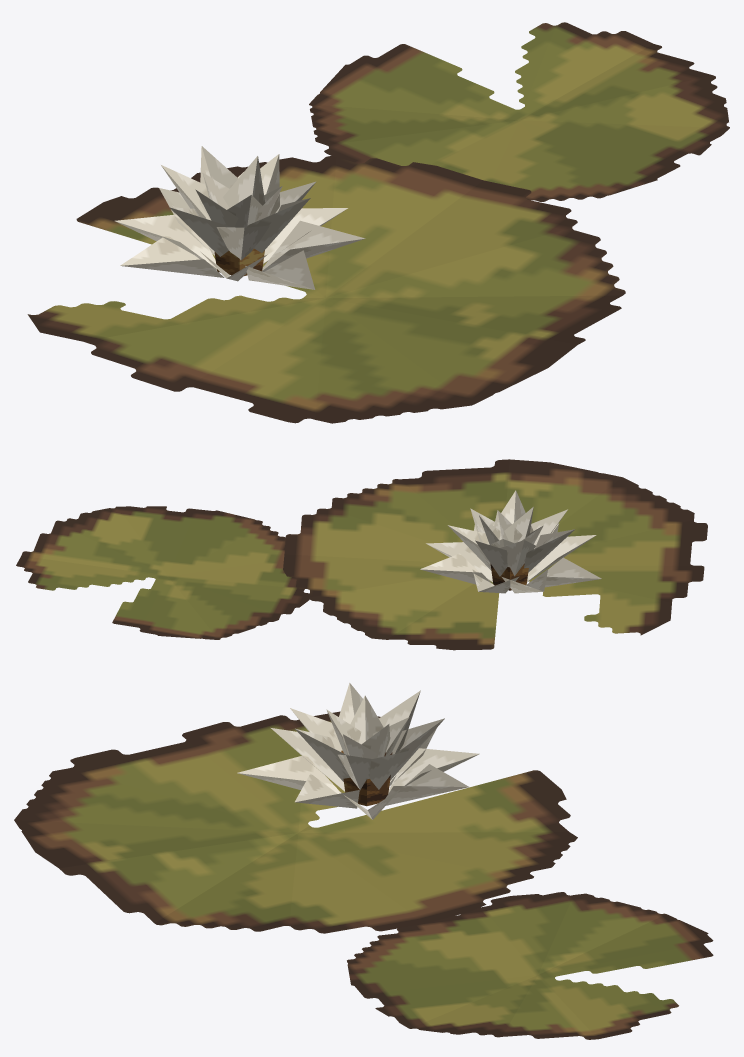
Rendered from SM_SW05_LilyPadsFlower.fbx.
3 renders of one model, top to bottom at view 1: azimuth 30°, elevation 25°; view 2: azimuth 150°, elevation 25°; view 3: azimuth 270°, elevation 25°, orthographic. The views are drawn at different scales.
Parts seen in each view (by area): view 1: SW05b_Plants, SW05b_Props; view 2: SW05b_Plants, SW05b_Props; view 3: SW05b_Plants, SW05b_Props.
Part boxes in pixels (bbox=[...]): SW05b_Plants: bbox=[27, 22, 729, 423]; SW05b_Props: bbox=[115, 146, 365, 289]; SW05b_Plants: bbox=[16, 459, 707, 650]; SW05b_Props: bbox=[420, 490, 601, 593]; SW05b_Plants: bbox=[14, 711, 713, 1039]; SW05b_Props: bbox=[237, 683, 479, 819].
Size of the model in its own units: 0.4785 by 0.0658 by 0.4185.
